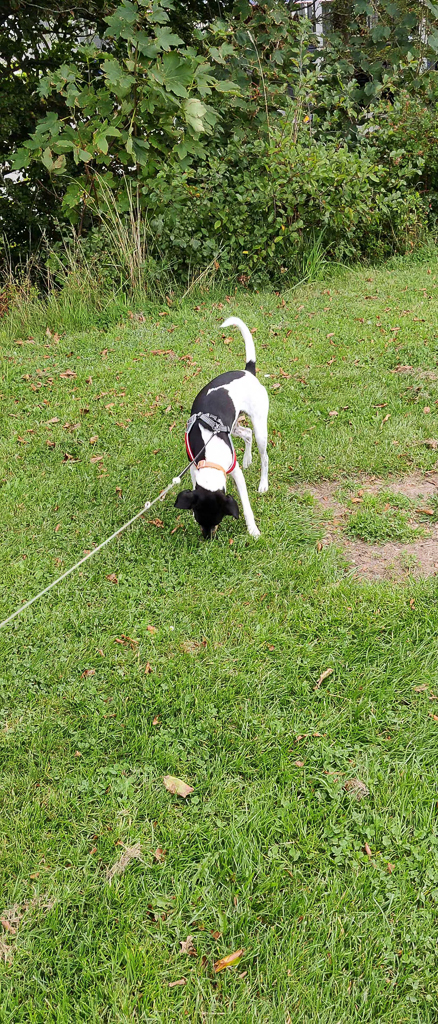Dog: (160, 309, 298, 561)
